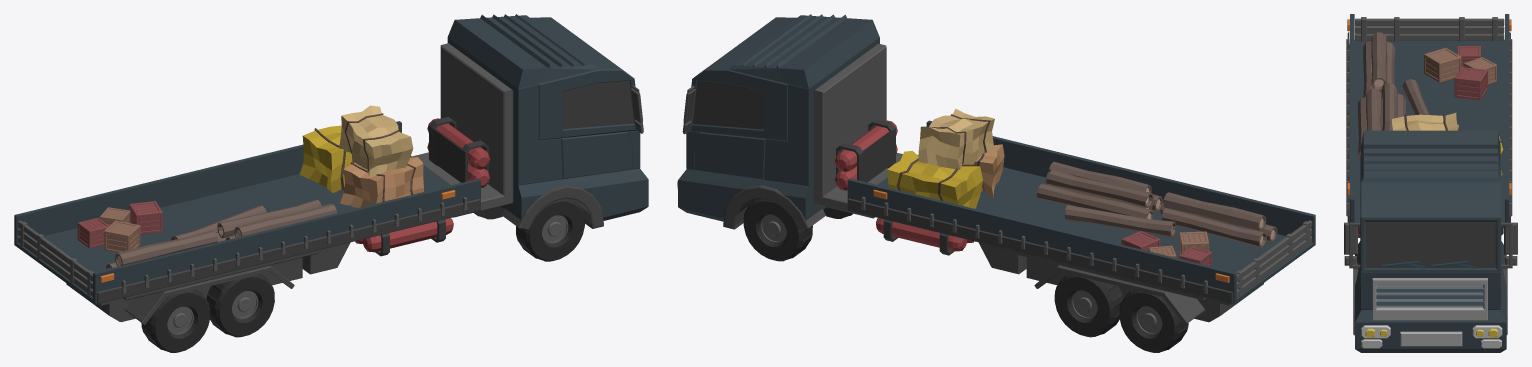
The model's file is truck-a04.glb.
3 views of the same model, side by side, from view 1: azimuth 30°, elevation 25°; view 2: azimuth 150°, elevation 25°; view 3: azimuth 270°, elevation 25° (orthographic). The views are drawn at different scales.
Parts seen in each view (by area): view 1: truck_a04_001; view 2: truck_a04_001; view 3: truck_a04_001.
Part boxes in pixels (x1,y1,x2,y2): truck_a04_001: (14,14,648,352); truck_a04_001: (677,14,1315,352); truck_a04_001: (1344,14,1517,352).
Size of the model in its own units: 11 by 3.71 by 3.
2 materials, 2 textured.
